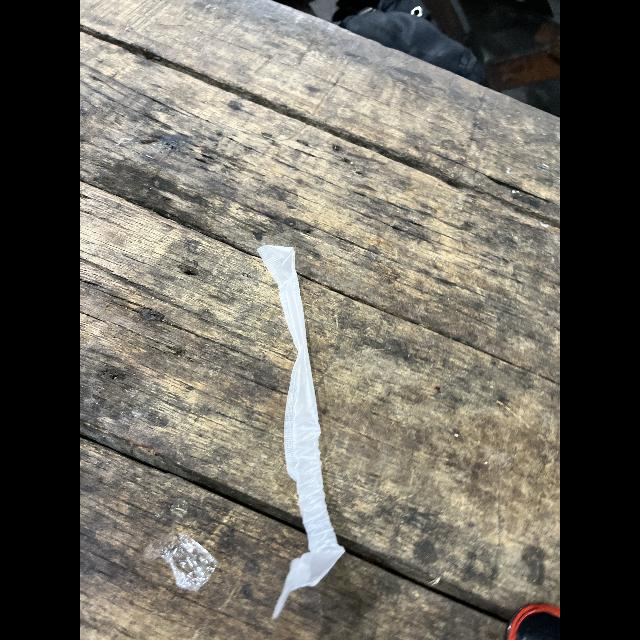scrap_plastic: (252, 238, 348, 620), (164, 533, 218, 593)
